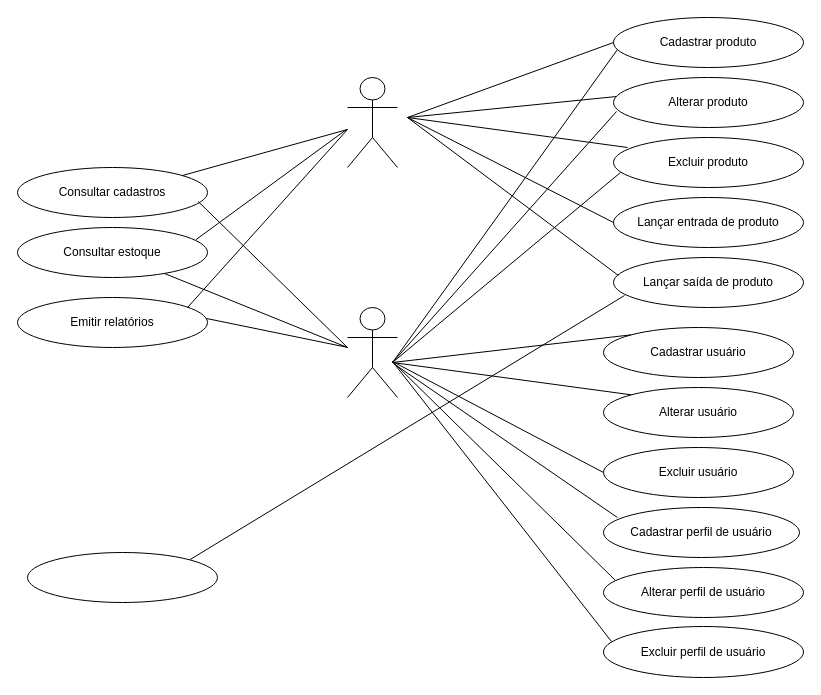
The diagram is 821 pixels wide and 695 high, and some of its shapes have lost their labels. The centre of each missing label's shape, as x and y in pixels:
"Administrador" belongs at pixel 372 352.
"Disparar e-mail" belongs at pixel 122 577.
"Operador" belongs at pixel 372 122.
